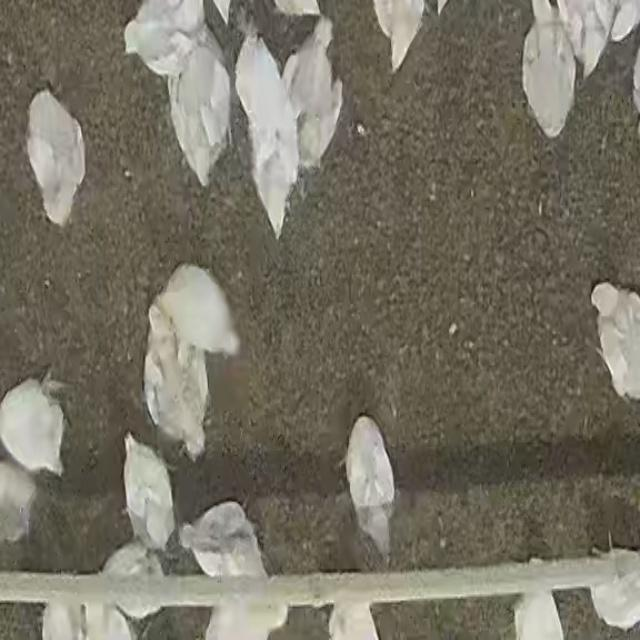chicken: (236, 34, 302, 245), (344, 413, 407, 569), (25, 88, 92, 230), (116, 431, 177, 556)
